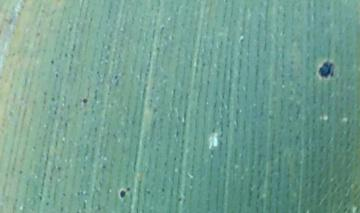tarspot: (318, 61, 335, 78), (119, 190, 126, 198), (82, 97, 88, 104), (125, 187, 131, 191)
